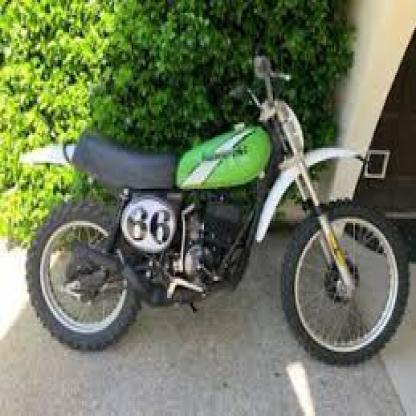Motorcycle: (13, 16, 411, 364)
